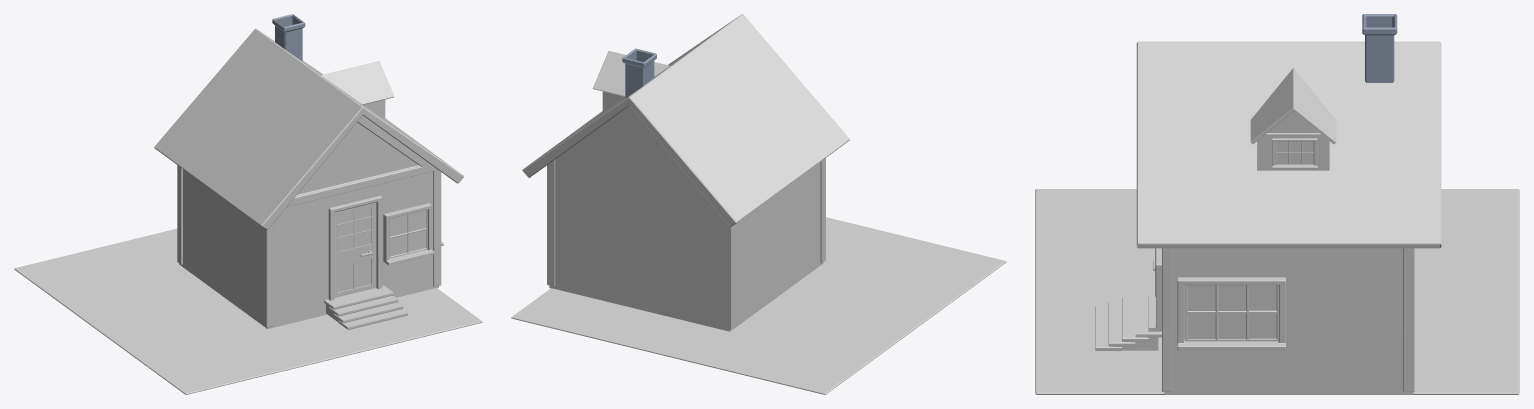
The model's file is Hyouse.fbx.
3 views of the same model, side by side, from view 1: azimuth 30°, elevation 25°; view 2: azimuth 150°, elevation 25°; view 3: azimuth 270°, elevation 25° (orthographic). The views are drawn at different scales.
Parts seen in each view (by area): view 1: Plane, HouseBody, Roof, Door, Plane.005, Window, Stairs, WeirdThingy, Chimney; view 2: HouseBody, Plane, Roof, Plane.005, WeirdThingy, Chimney; view 3: Roof, Plane, HouseBody, LongWindow, WeirdThingy, Plane.005, Stairs, Chimney, LongWindow.001, Window.
Boxes of the visible parts, left/top/right/bottom form: Plane: left=14, top=228, right=482, bottom=394; HouseBody: left=179, top=116, right=438, bottom=328; Roof: left=154, top=28, right=463, bottom=229; Door: left=328, top=195, right=382, bottom=300; Plane.005: left=177, top=165, right=441, bottom=327; Window: left=383, top=203, right=434, bottom=265; Stairs: left=324, top=285, right=407, bottom=329; WeirdThingy: left=321, top=61, right=394, bottom=119; Chimney: left=272, top=14, right=305, bottom=61; HouseBody: left=549, top=106, right=823, bottom=331; Plane: left=511, top=217, right=1006, bottom=394; Roof: left=522, top=14, right=849, bottom=226; Plane.005: left=547, top=158, right=825, bottom=329; WeirdThingy: left=592, top=51, right=670, bottom=112; Chimney: left=622, top=48, right=656, bottom=98; Roof: left=1136, top=41, right=1441, bottom=248; Plane: left=1035, top=189, right=1519, bottom=394; HouseBody: left=1164, top=248, right=1413, bottom=394; LongWindow: left=1177, top=277, right=1285, bottom=350; WeirdThingy: left=1250, top=68, right=1336, bottom=170; Plane.005: left=1162, top=248, right=1414, bottom=391; Stairs: left=1095, top=292, right=1161, bottom=350; Chimney: left=1362, top=14, right=1397, bottom=82; LongWindow.001: left=1272, top=138, right=1317, bottom=168; Window: left=1148, top=248, right=1161, bottom=331.
Bounding box in the file's own units: 1191 × 833 × 1125.
